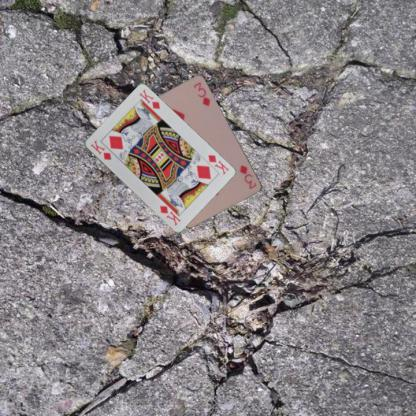3d: (238, 162, 258, 191)
Kd: (88, 137, 112, 162), (205, 152, 230, 176)
